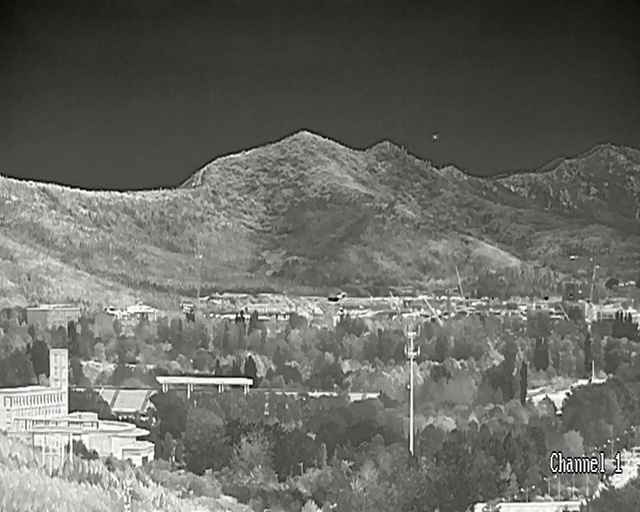uav: (432, 133, 437, 139)
